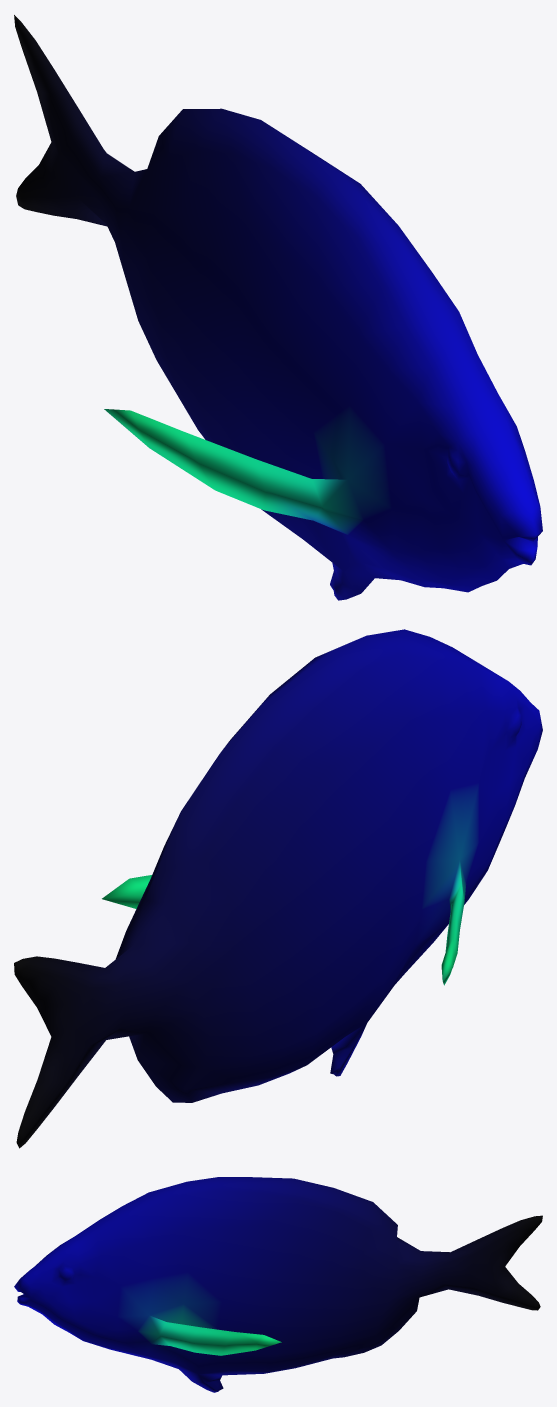
File: Fish_BC.fbx
The picture shows the model from 3 angles, top to bottom: view 1: azimuth 30°, elevation 25°; view 2: azimuth 150°, elevation 25°; view 3: azimuth 270°, elevation 25°; orthographic projection. The views are drawn at different scales.
Parts seen in each view (by area): view 1: ST_FISH_SAR; view 2: ST_FISH_SAR; view 3: ST_FISH_SAR.
Part boxes in pixels (x1,y1,x2,y2): ST_FISH_SAR: [14, 15, 542, 600]; ST_FISH_SAR: [14, 629, 542, 1148]; ST_FISH_SAR: [14, 1177, 542, 1392].
Size of the model in its own units: 11.31 by 13.62 by 30.21.
